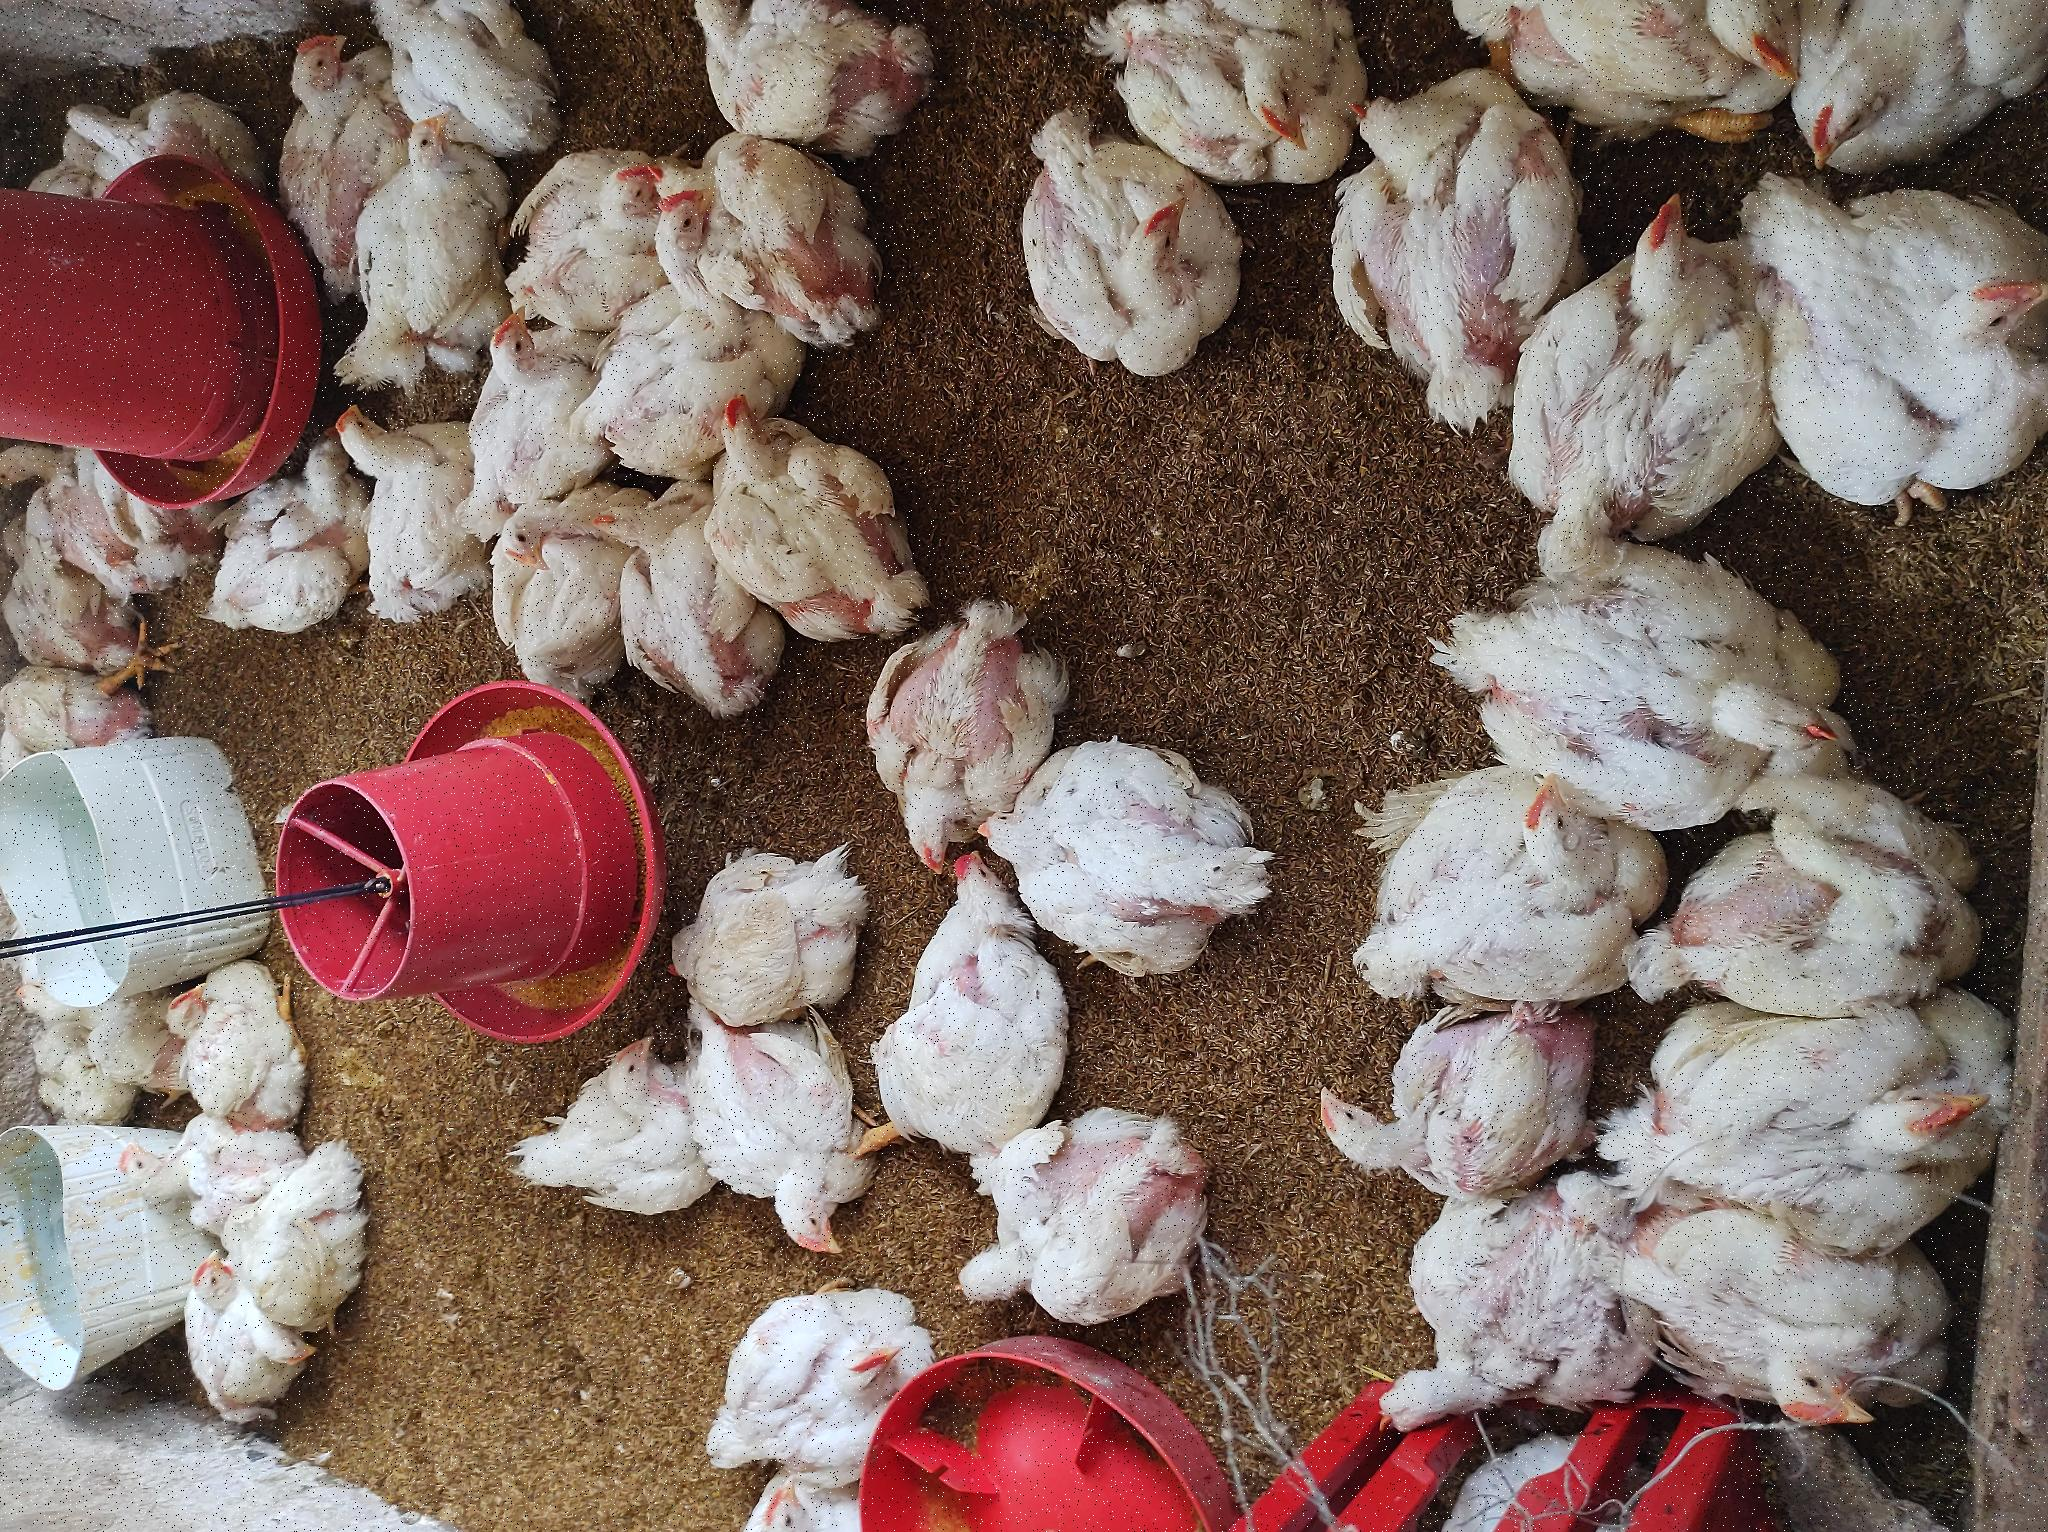Pollos: (547, 1003, 825, 1276), (354, 845, 677, 1073), (196, 945, 407, 1218), (668, 877, 931, 1086), (1171, 1003, 1404, 1236), (80, 1357, 362, 1532), (898, 715, 1137, 919), (1166, 1361, 1450, 1532), (282, 694, 533, 874), (354, 1316, 550, 1532), (1351, 1146, 1532, 1374), (71, 708, 256, 916), (1162, 336, 1400, 496), (1097, 586, 1345, 737), (579, 1337, 771, 1532), (293, 513, 500, 692), (512, 665, 698, 859), (1216, 657, 1371, 888), (1396, 694, 1533, 945), (965, 2, 1141, 177), (886, 200, 1097, 343), (148, 253, 388, 373), (927, 343, 1105, 472), (1271, 262, 1511, 356), (1216, 513, 1367, 657), (1033, 468, 1216, 584), (1342, 69, 1450, 264), (420, 158, 563, 304), (767, 1437, 988, 1532), (755, 2, 864, 166), (867, 6, 960, 180), (310, 106, 417, 257), (1387, 1442, 1533, 1532), (959, 594, 1054, 692), (2, 740, 69, 872), (952, 492, 1030, 578), (206, 174, 282, 237), (494, 14, 536, 68)
